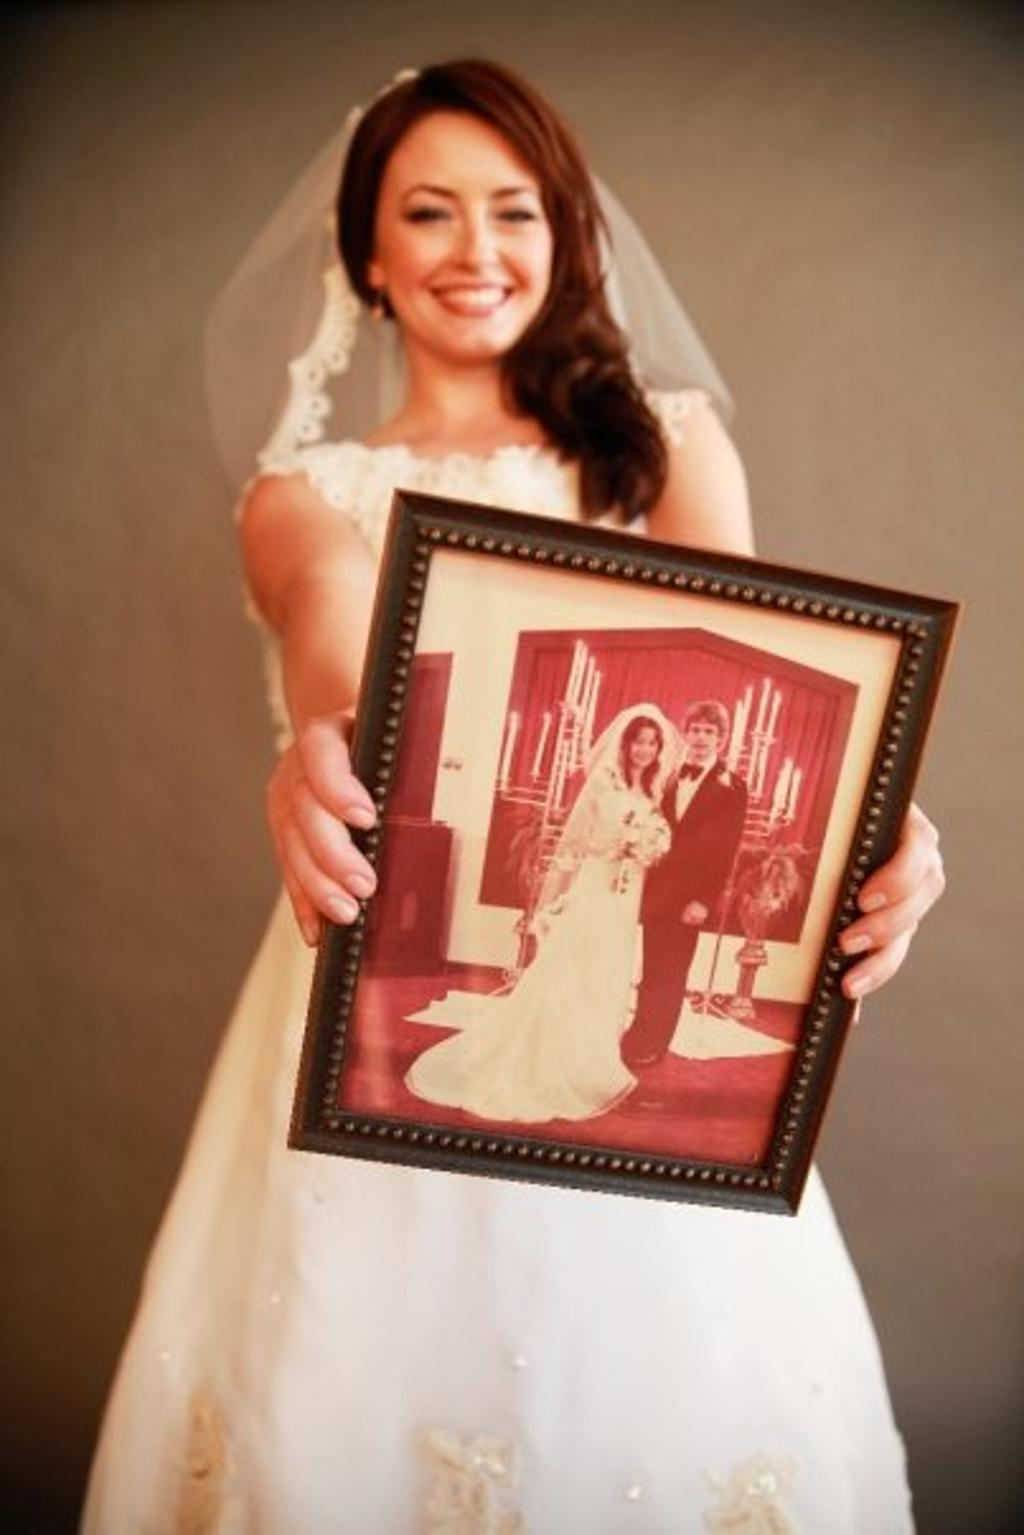face: (377, 130, 553, 359), (687, 718, 717, 755), (627, 729, 657, 766)
